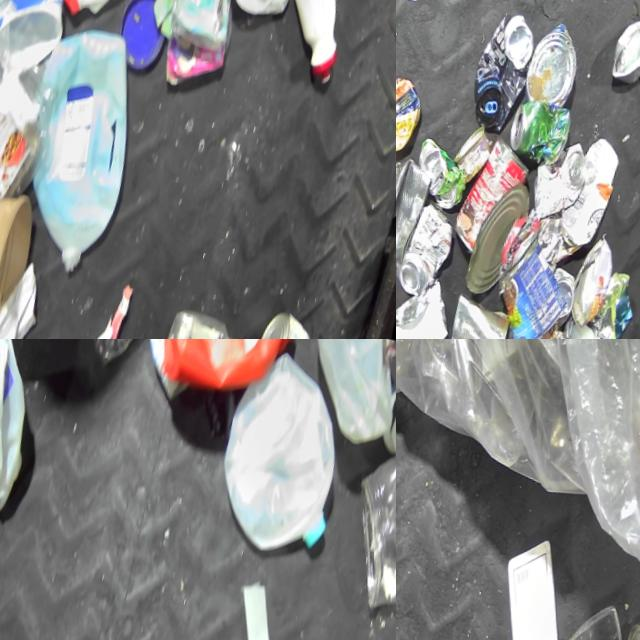can: (440, 131, 534, 262), (472, 230, 574, 339), (458, 6, 541, 135), (454, 176, 531, 302), (519, 133, 589, 227), (515, 16, 585, 109), (396, 197, 456, 301), (556, 233, 614, 332), (498, 93, 570, 168), (403, 135, 469, 212), (396, 149, 434, 268), (433, 290, 511, 339), (443, 121, 493, 186), (602, 6, 640, 87), (396, 68, 425, 159), (535, 265, 575, 329), (239, 305, 312, 339), (483, 317, 566, 339), (374, 381, 396, 459), (548, 312, 599, 339)
milk_jug: (198, 342, 364, 564), (470, 531, 587, 640), (286, 339, 396, 451), (0, 339, 54, 515)
non_white_jug: (0, 17, 157, 280), (144, 339, 300, 406)
